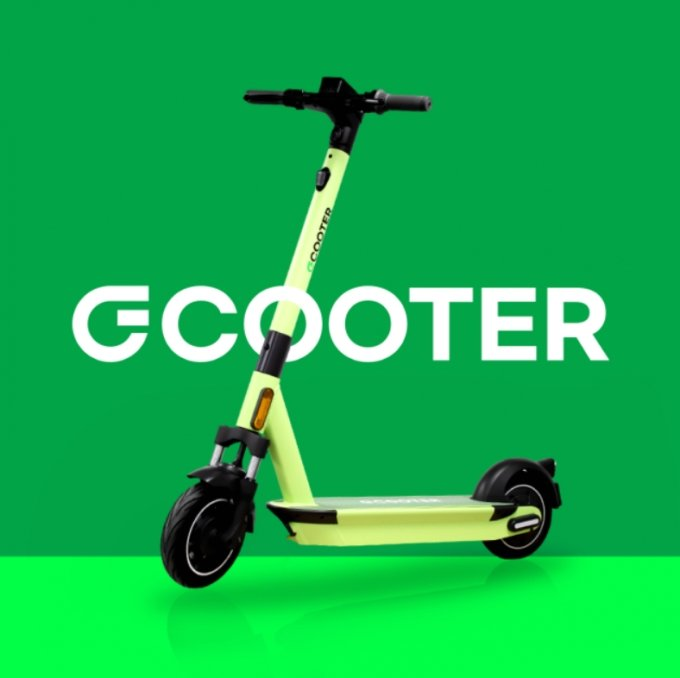kick_body: (266, 472, 482, 571)
kick_handler: (239, 75, 434, 138)
kick_wheel: (156, 473, 259, 588), (476, 457, 562, 566)
